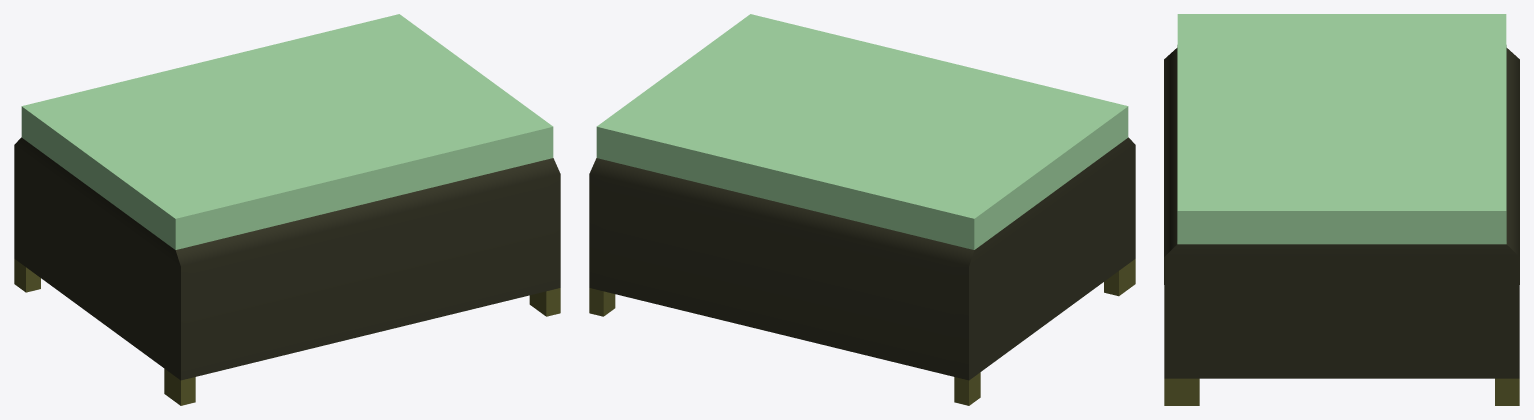
The model's file is Couch.fbx.
The picture shows the model from 3 angles, left to right: view 1: azimuth 30°, elevation 25°; view 2: azimuth 150°, elevation 25°; view 3: azimuth 270°, elevation 25°; orthographic projection. The views are drawn at different scales.
Visible parts, largest first — view 1: Couch; view 2: Couch; view 3: Couch.
Part boxes in pixels (<box>): Couch: <box>14,14,560,405</box>; Couch: <box>589,14,1135,405</box>; Couch: <box>1164,14,1519,405</box>.
Bounding box in the file's own units: 15.34 × 7.04 × 11.65.
